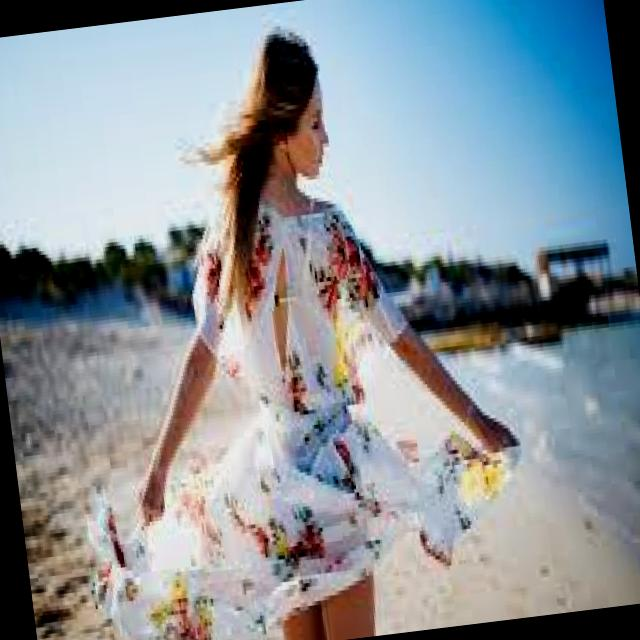dress: (87, 202, 516, 639)
